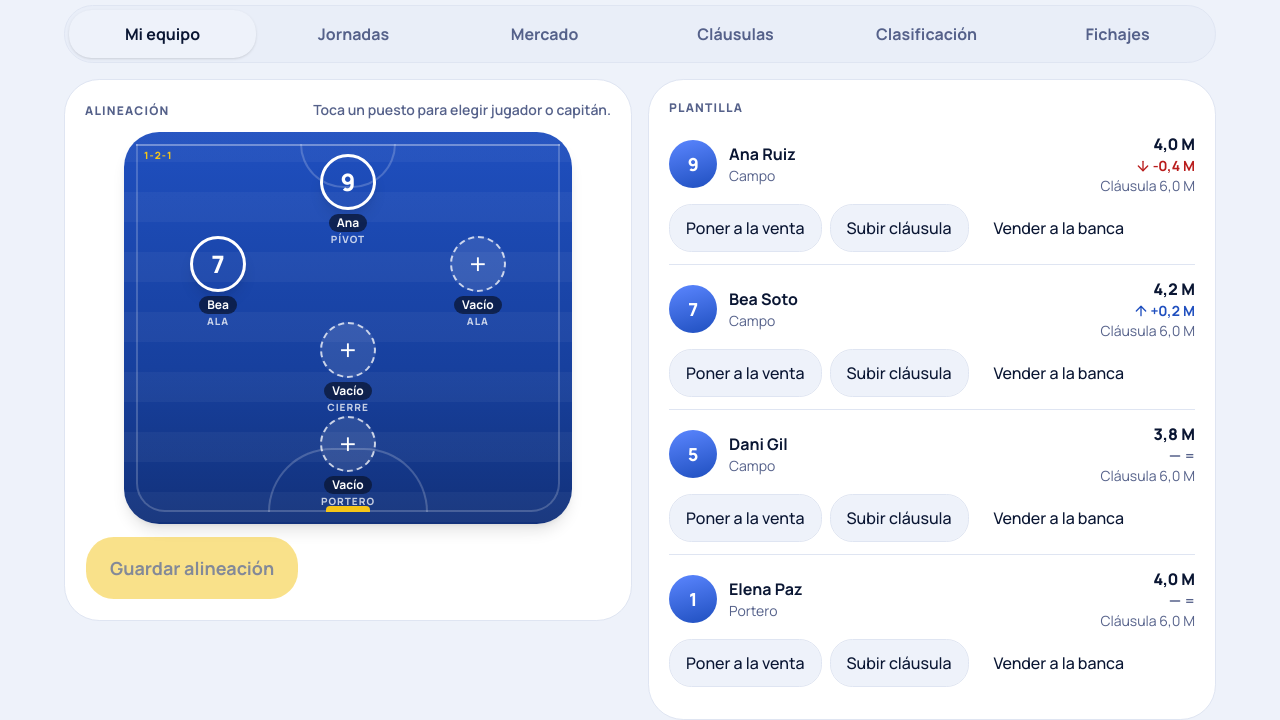
Test case: Mi equipo: vender › un precio que no es un número no se envía
(page scrolled)
Click the button "Poner a la venta" below "Dani Gil" at [745, 518], box [669, 494, 822, 542]
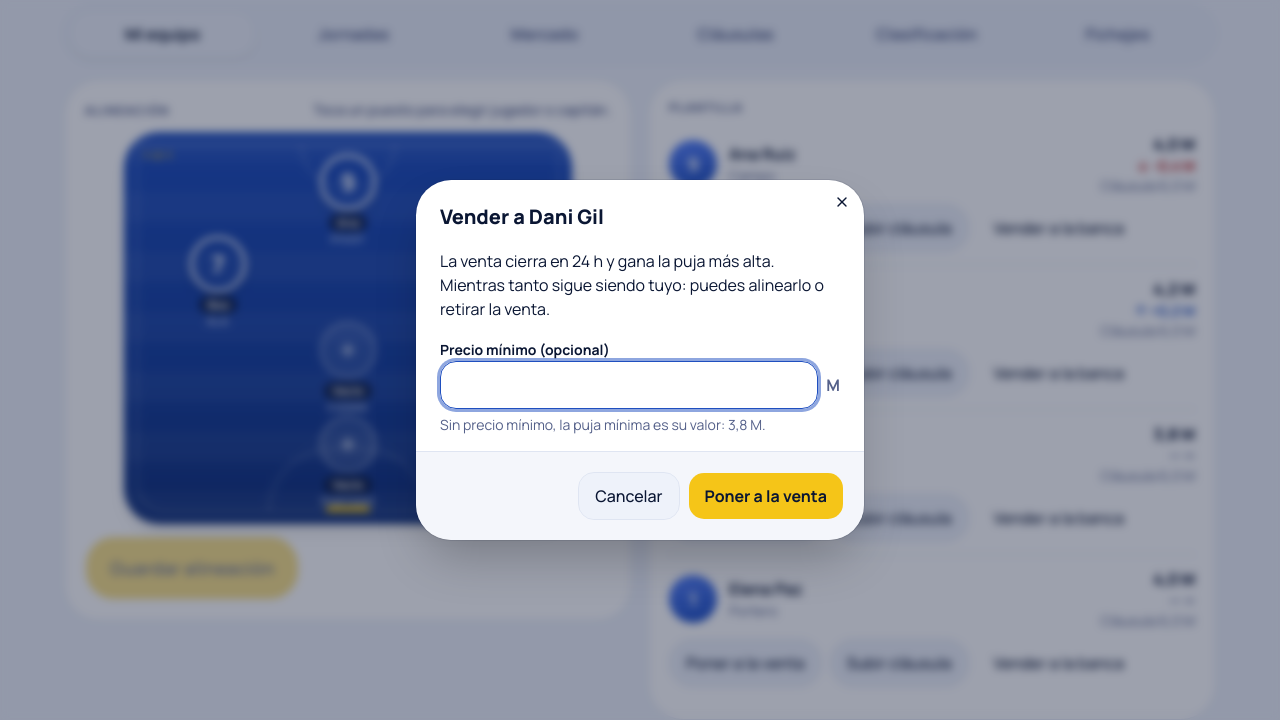
Type "cinco" into the field labelled "Precio mínimo (opcional)" at [629, 385], box [440, 361, 818, 409]
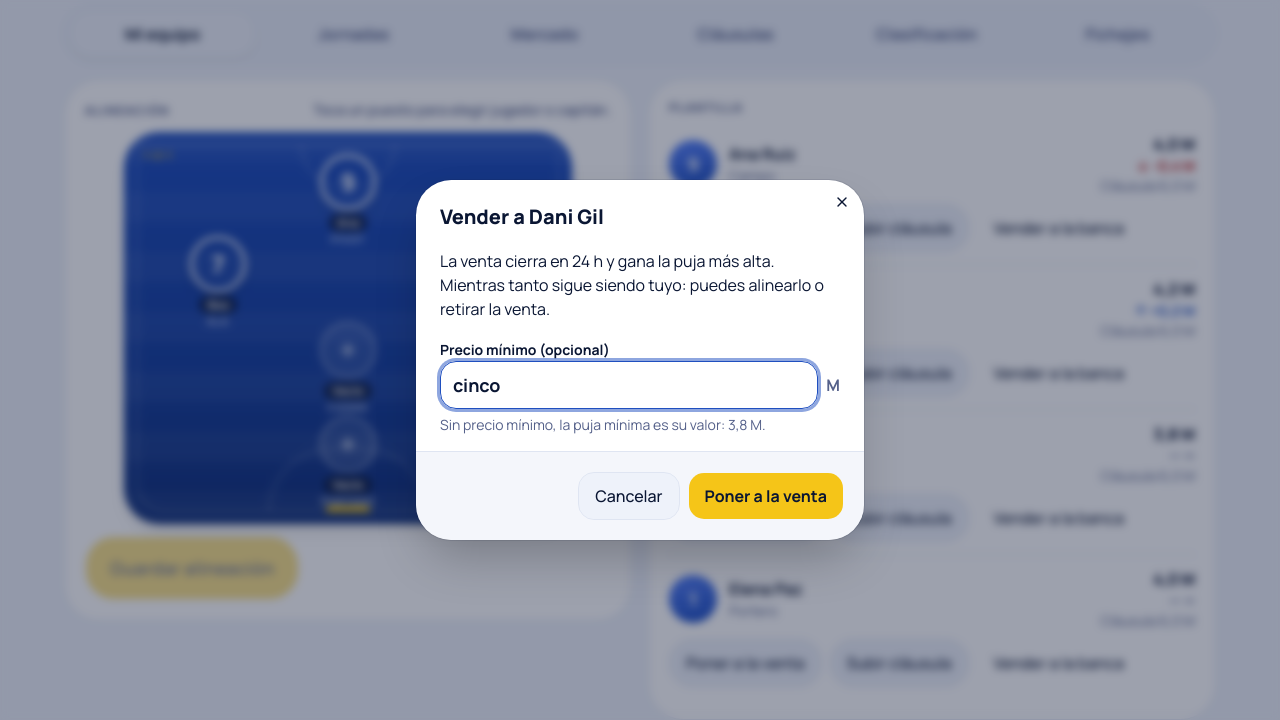
Click the button "Poner a la venta" at [766, 496], box [688, 472, 844, 520]
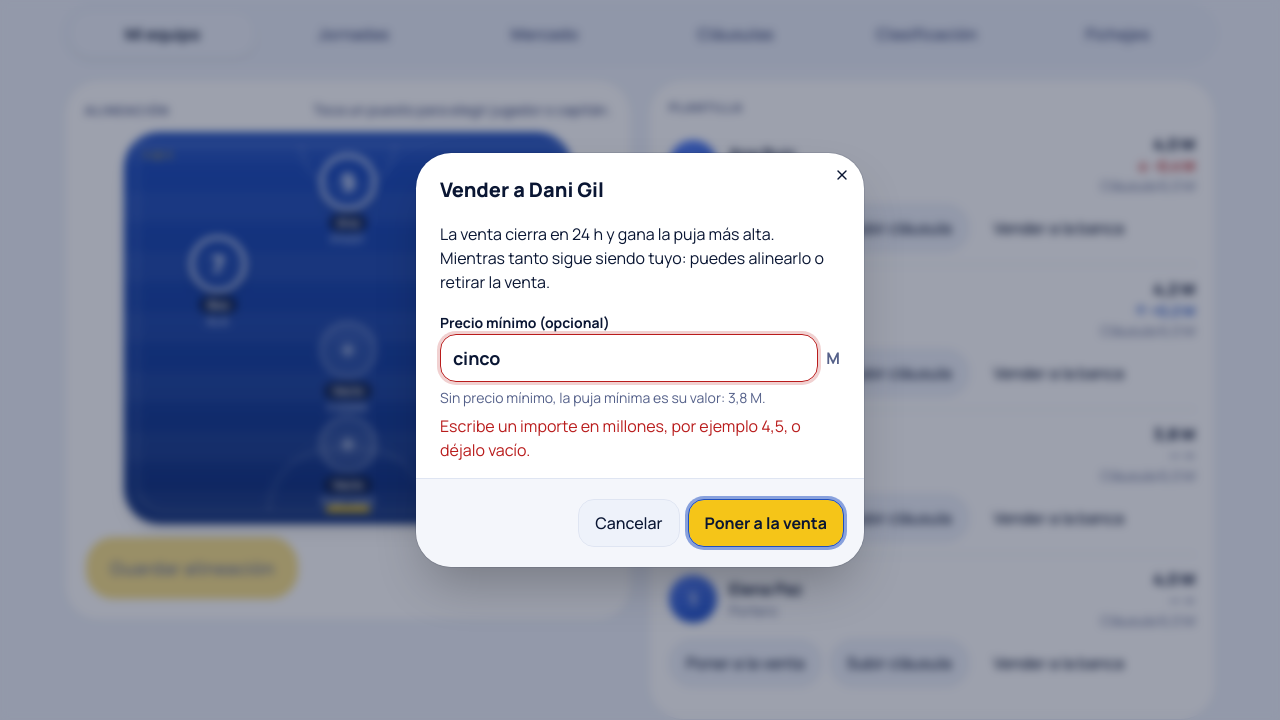
Check: the message shows "Escribe un importe en millones", box [440, 415, 801, 461]
